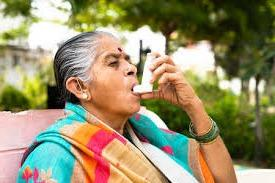Human: (30, 29, 247, 183)
